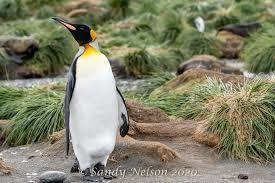king: (49, 11, 137, 178)
